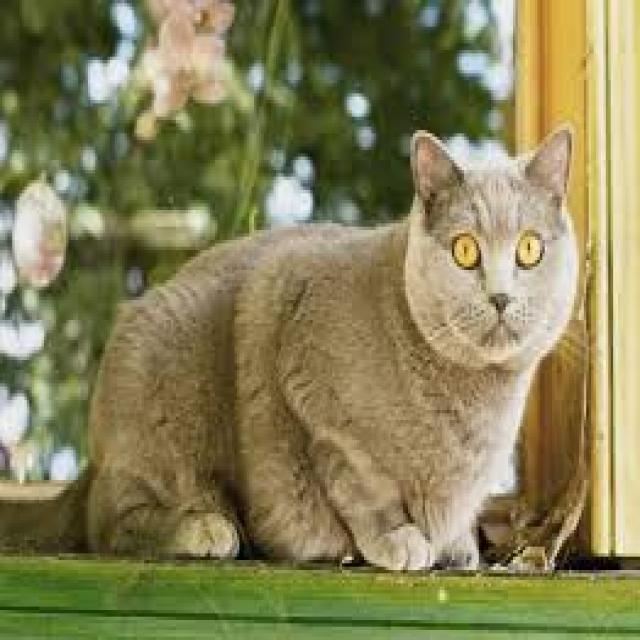Cat: (0, 123, 586, 575)
